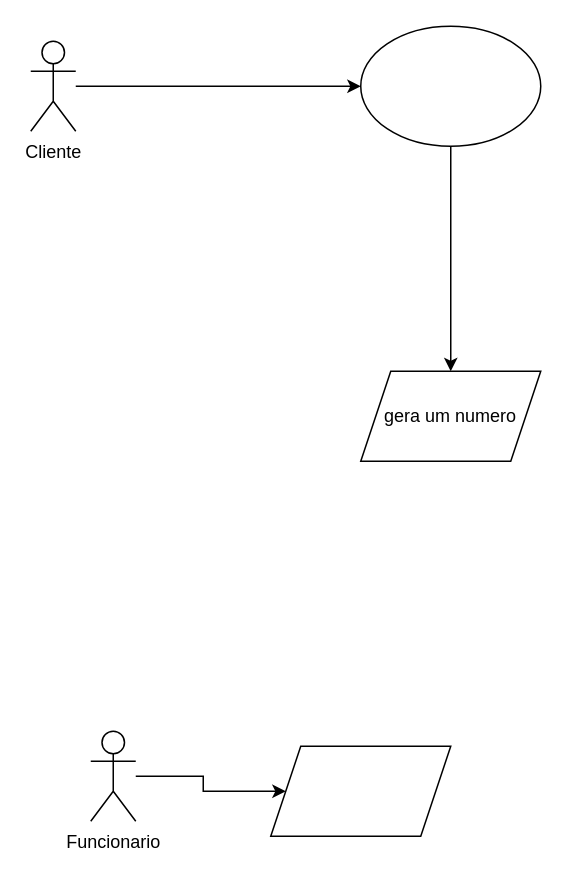
Some shapes in this 567 by 879 pixel diagram are drawn without their labels. Each missing label, with the centre of its shape:
Recebe numero: (360,790)
Solicita numero: (450,85)
